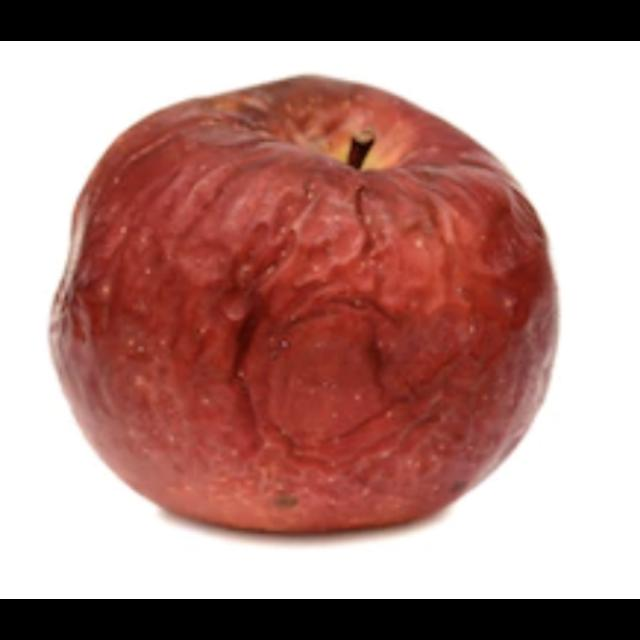Apel Tidak Segar: (45, 84, 560, 528)
